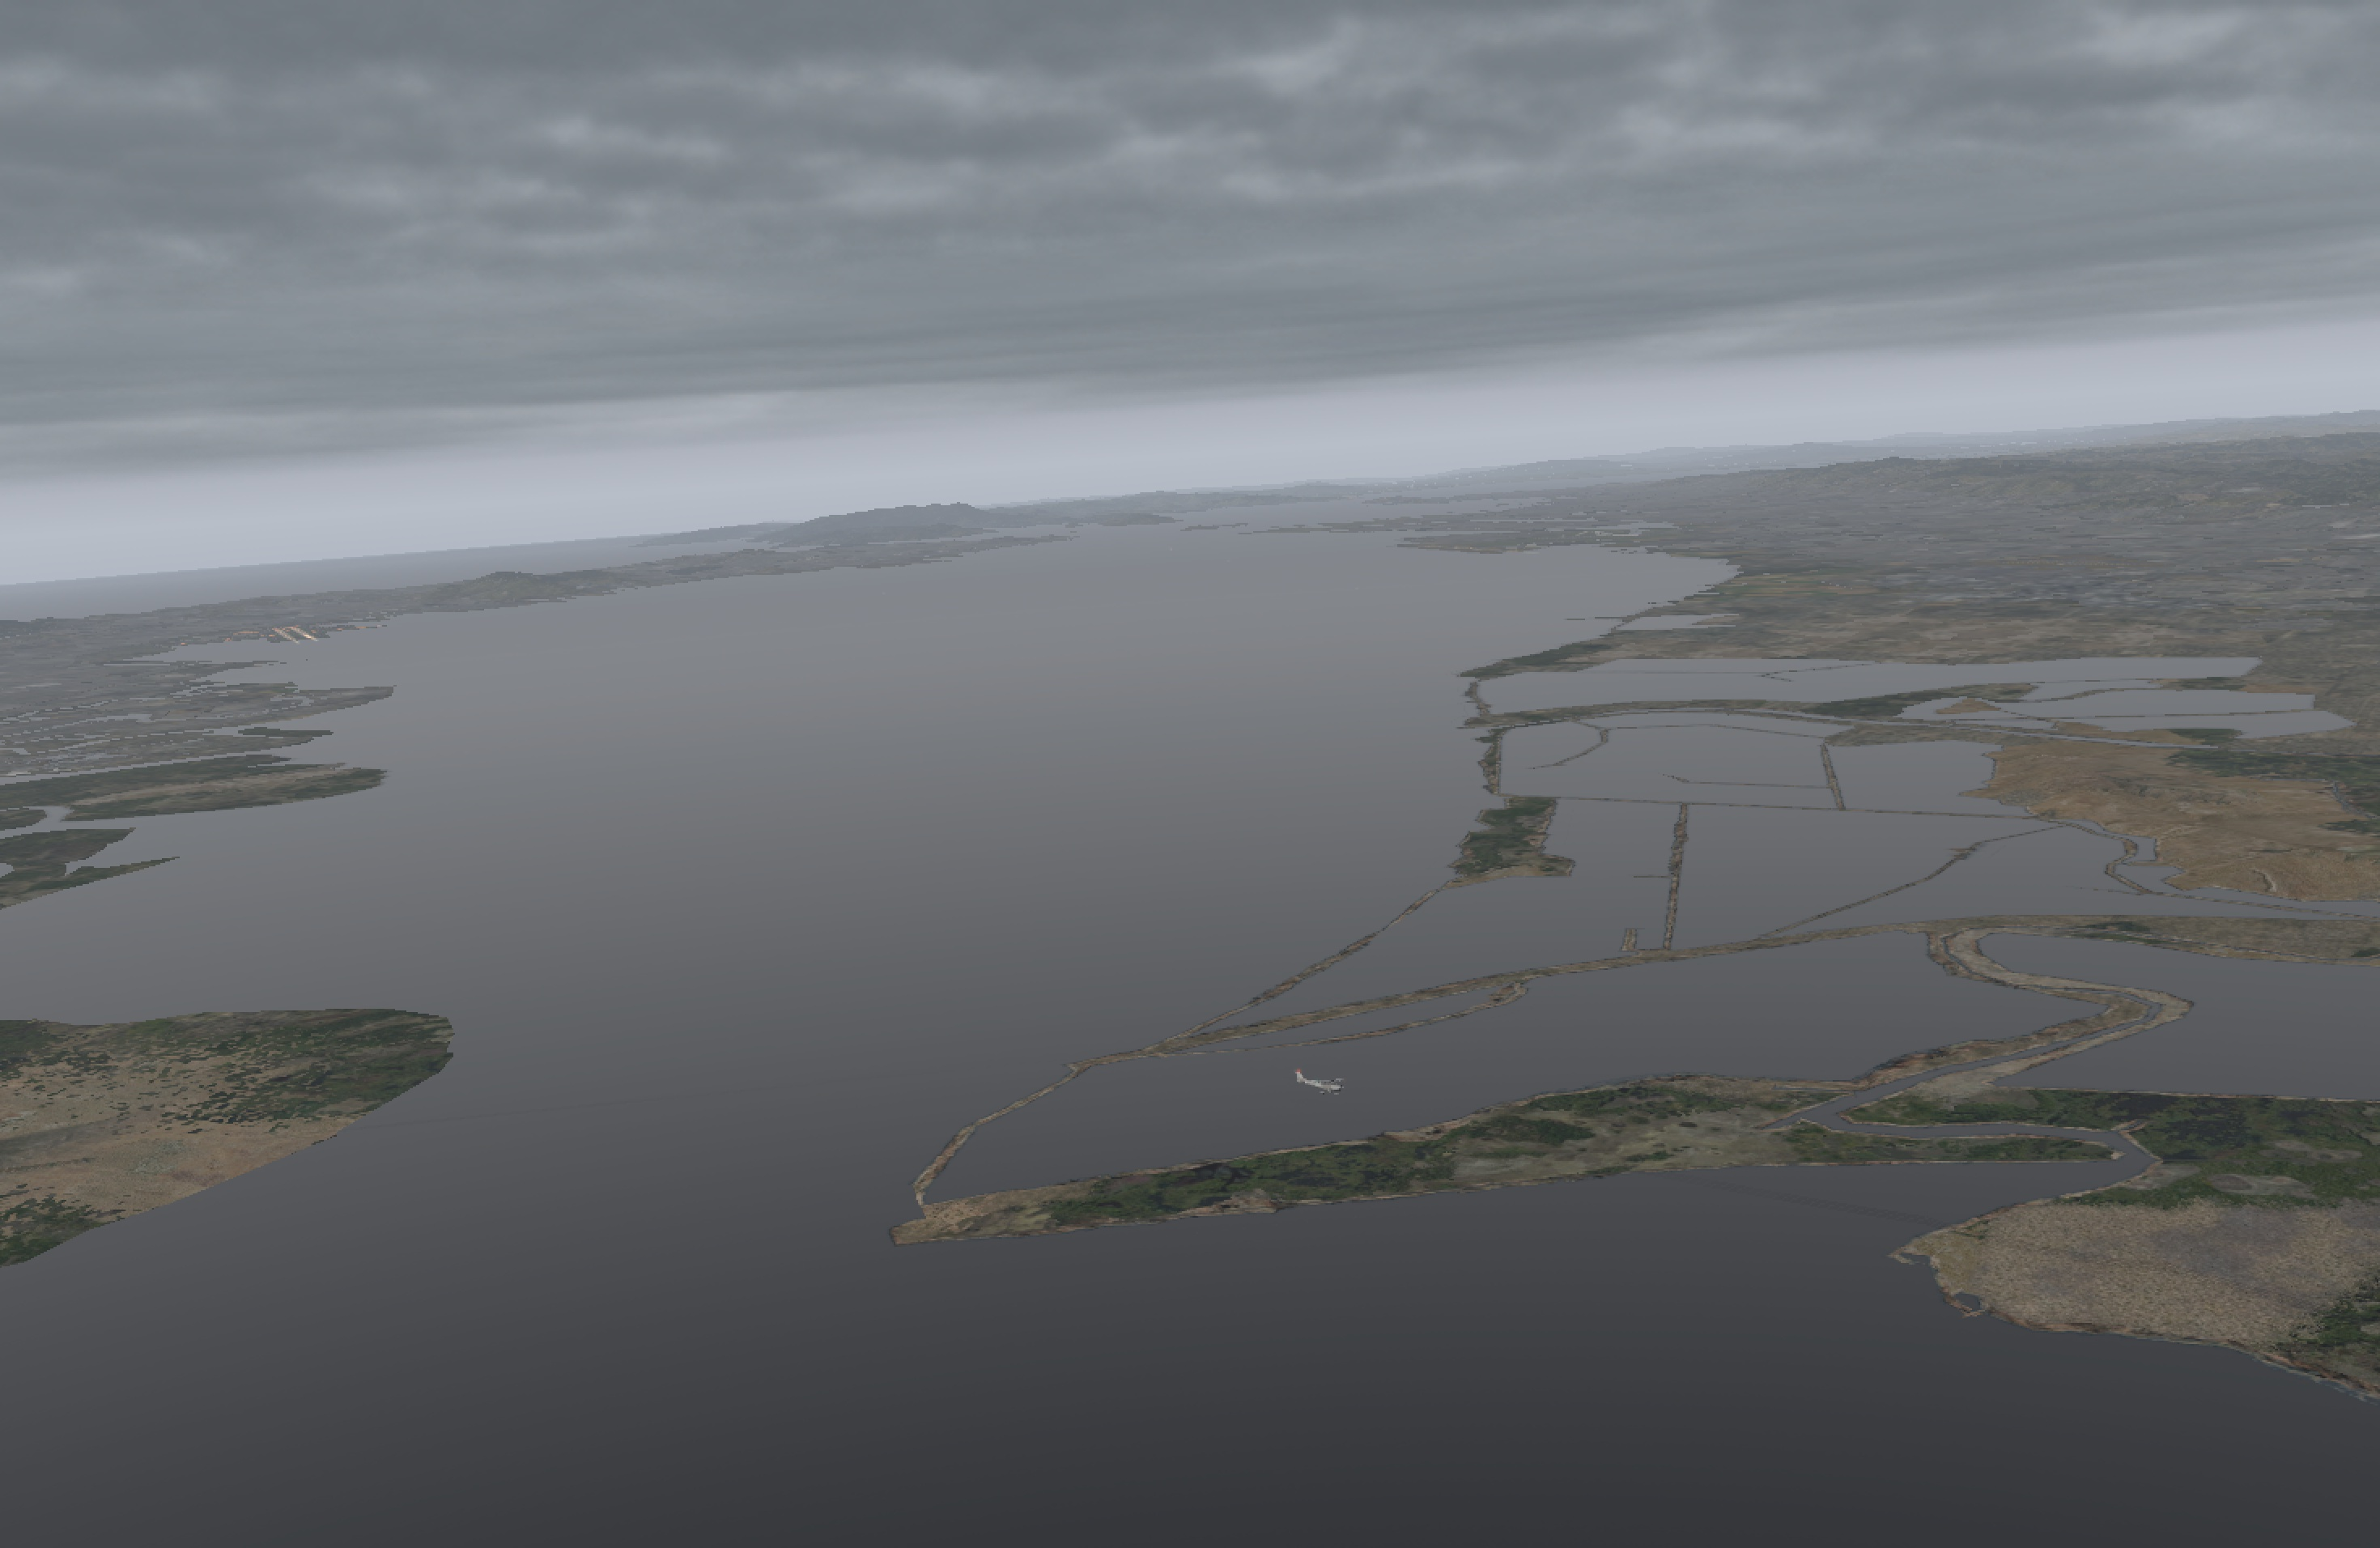aircraft: (1304, 1076, 1355, 1095)
